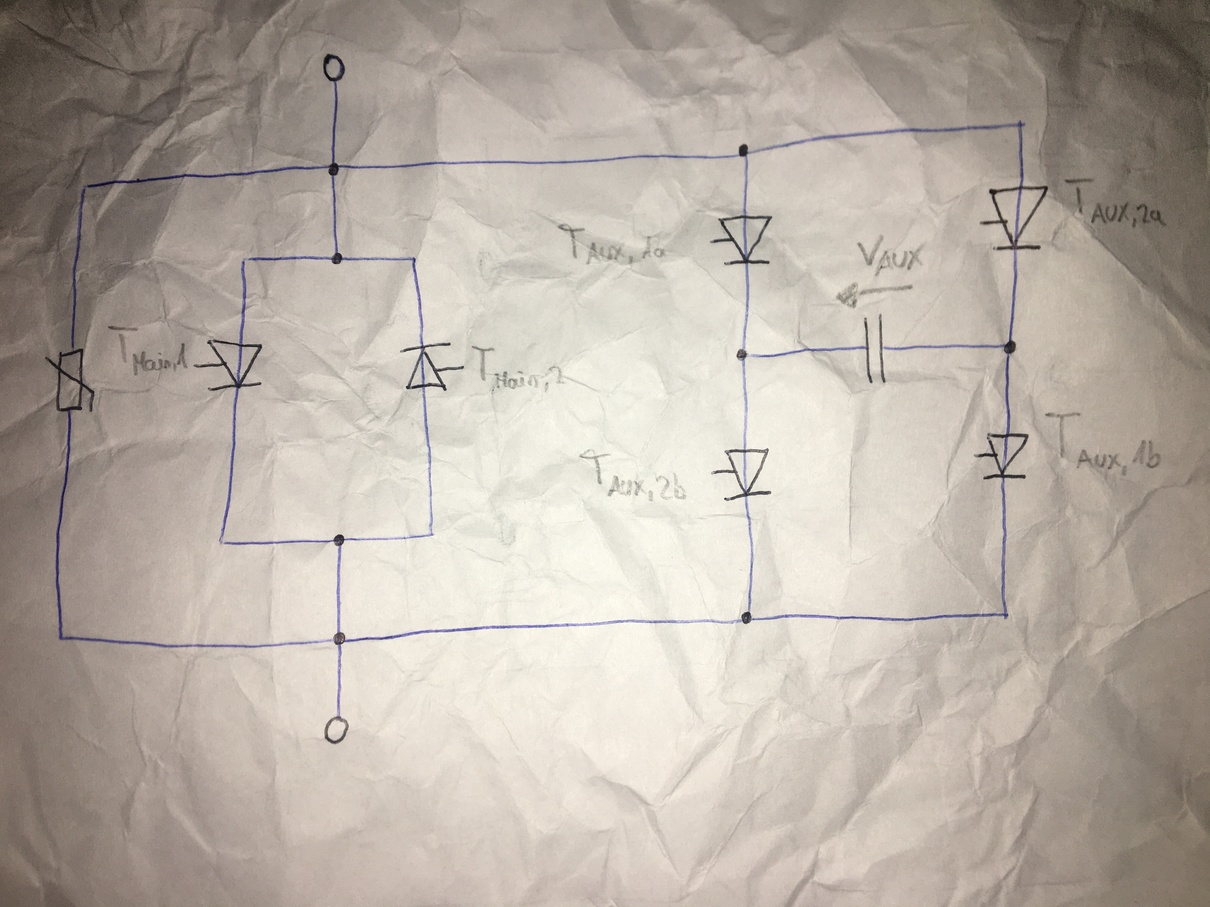capacitor.unpolarized: (861, 311, 893, 387)
junction: (1002, 337, 1020, 357), (735, 347, 754, 364), (330, 630, 348, 647), (737, 141, 753, 160), (325, 161, 342, 178), (740, 609, 755, 627), (331, 533, 348, 548), (330, 251, 344, 267), (423, 527, 439, 541), (999, 607, 1013, 622), (216, 533, 229, 549), (1012, 118, 1027, 131), (239, 254, 253, 267), (79, 181, 93, 194), (409, 253, 422, 265), (56, 632, 67, 644)
terminal: (322, 714, 350, 746), (321, 52, 347, 84)
text: (1039, 406, 1170, 482), (577, 447, 690, 505), (553, 219, 670, 273), (1061, 175, 1171, 232), (469, 343, 569, 396), (104, 322, 191, 375), (853, 232, 924, 278)
thyristor: (986, 184, 1050, 252), (205, 337, 264, 394), (717, 213, 774, 267), (398, 341, 453, 393), (723, 446, 773, 503), (981, 432, 1031, 482)
varistor: (42, 345, 98, 416)
